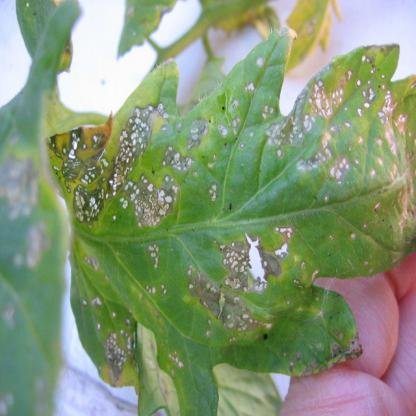tomato septoria leaf spot: (38, 52, 399, 407)
